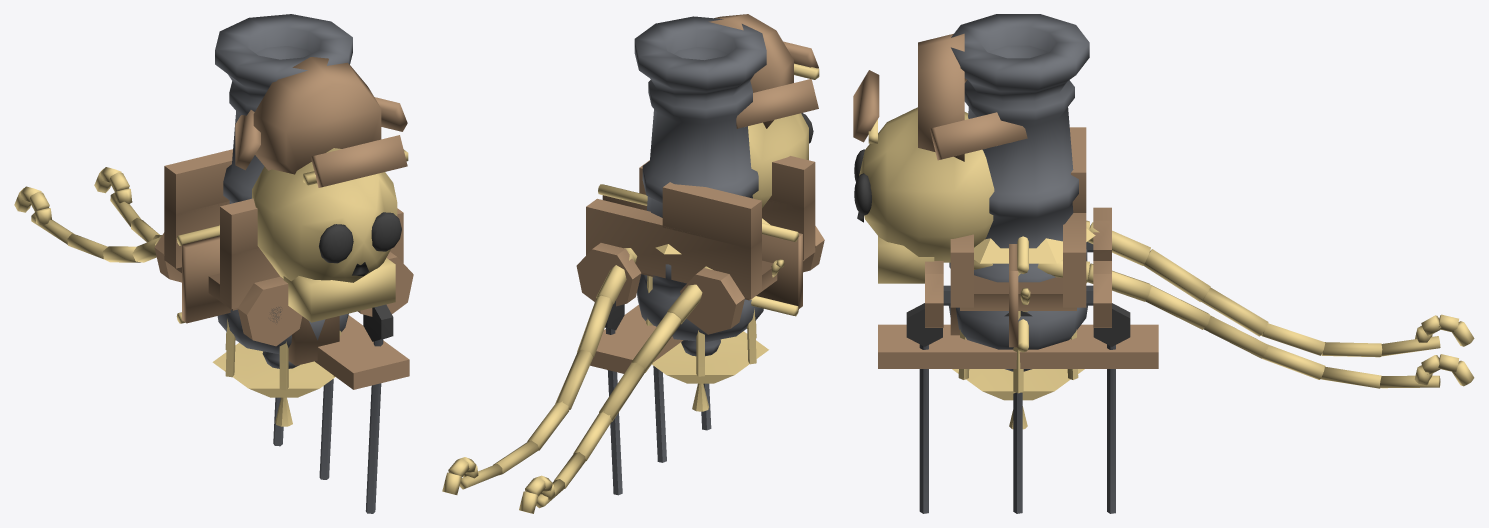
The model's file is player_kit_lo.glb.
3 views of the same model, side by side, from view 1: azimuth 30°, elevation 25°; view 2: azimuth 150°, elevation 25°; view 3: azimuth 270°, elevation 25° (orthographic). The views are drawn at different scales.
Visible parts, largest first — view 1: figurehead_gold, figurehead_wood, carriage_wood, barrel, lantern_gold, channel_wood, stern_wood, channel_iron, figurehead_dark, channel_dark, stern_gold; view 2: carriage_wood, barrel, figurehead_gold, figurehead_wood, lantern_gold, stern_wood, channel_wood, channel_iron, stern_gold; view 3: figurehead_gold, barrel, carriage_wood, figurehead_wood, channel_wood, lantern_gold, channel_iron, channel_dark, stern_wood, stern_gold, figurehead_dark.
Boxes of the visible parts, bbox=[...] form: figurehead_gold: bbox=[14, 148, 408, 322]; figurehead_wood: bbox=[235, 57, 407, 365]; carriage_wood: bbox=[154, 149, 413, 346]; barrel: bbox=[215, 14, 352, 368]; lantern_gold: bbox=[212, 225, 341, 426]; channel_wood: bbox=[315, 315, 409, 389]; stern_wood: bbox=[182, 235, 231, 323]; channel_iron: bbox=[273, 339, 383, 513]; figurehead_dark: bbox=[319, 212, 401, 275]; channel_dark: bbox=[363, 304, 393, 341]; stern_gold: bbox=[176, 225, 219, 323]; carriage_wood: bbox=[576, 156, 824, 334]; barrel: bbox=[634, 16, 766, 356]; figurehead_gold: bbox=[442, 63, 819, 513]; figurehead_wood: bbox=[709, 14, 818, 128]; lantern_gold: bbox=[646, 218, 769, 411]; stern_wood: bbox=[602, 195, 802, 309]; channel_wood: bbox=[590, 305, 683, 373]; channel_iron: bbox=[606, 328, 711, 495]; stern_gold: bbox=[598, 184, 798, 316]; figurehead_gold: bbox=[859, 107, 1474, 388]; barrel: bbox=[949, 14, 1089, 371]; carriage_wood: bbox=[925, 127, 1111, 327]; figurehead_wood: bbox=[853, 33, 1027, 335]; channel_wood: bbox=[878, 324, 1158, 368]; lantern_gold: bbox=[952, 228, 1095, 429]; channel_iron: bbox=[919, 344, 1115, 513]; channel_dark: bbox=[906, 303, 1130, 346]; stern_wood: bbox=[1009, 244, 1018, 347]; stern_gold: bbox=[1017, 236, 1030, 352]; figurehead_dark: bbox=[854, 149, 871, 222].
Bounding box in the file's own units: 1.02 × 2.15 × 2.66.
